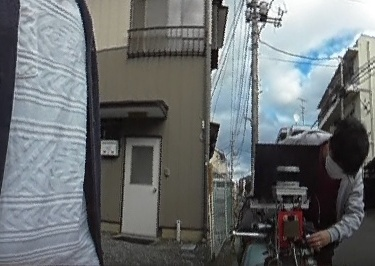person: (276, 117, 362, 266)
